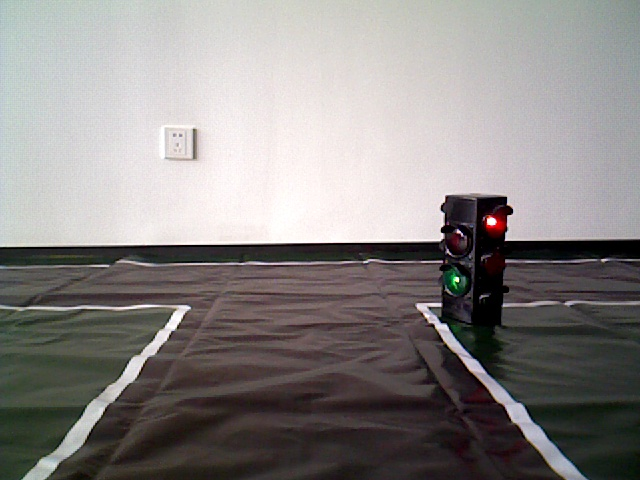red: (444, 198, 503, 316)
